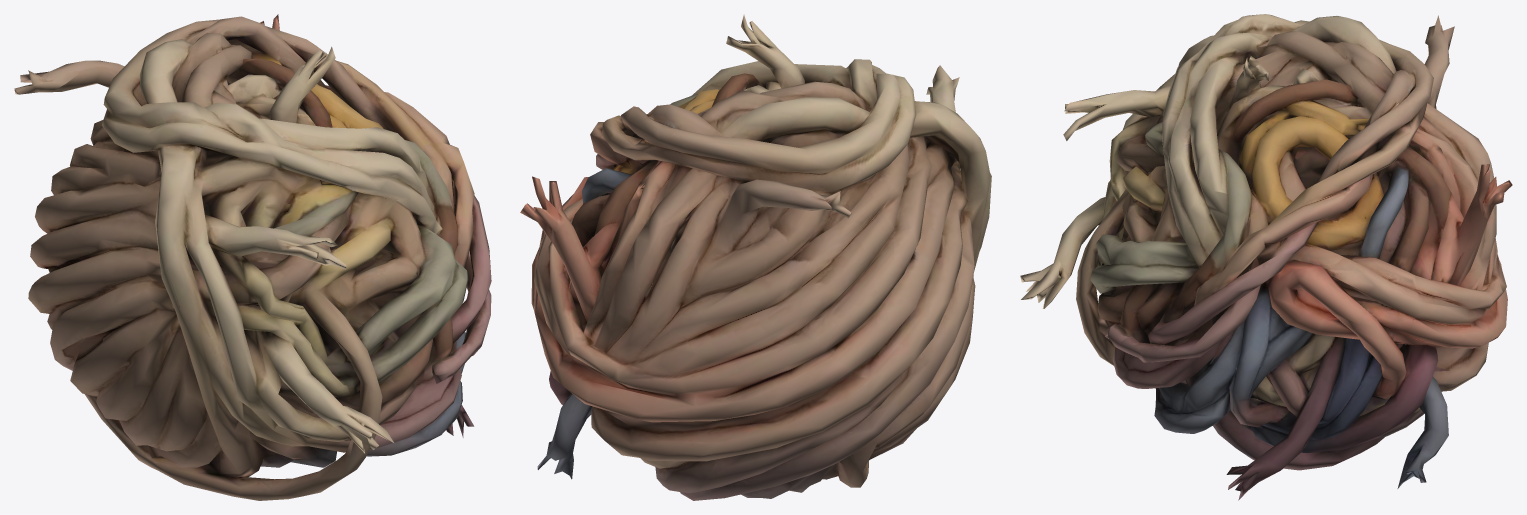
File: cable-ball.glb
3 views of the same model, side by side, from view 1: azimuth 30°, elevation 25°; view 2: azimuth 150°, elevation 25°; view 3: azimuth 270°, elevation 25° (orthographic). The views are drawn at different scales.
Visible parts, largest first — view 1: tripo_node_01a308a8-fe2e-421f-9cad-6132b33cbd5f; view 2: tripo_node_01a308a8-fe2e-421f-9cad-6132b33cbd5f; view 3: tripo_node_01a308a8-fe2e-421f-9cad-6132b33cbd5f.
Part boxes in pixels (x1,y1,x2,y2): tripo_node_01a308a8-fe2e-421f-9cad-6132b33cbd5f: (14, 14, 491, 500); tripo_node_01a308a8-fe2e-421f-9cad-6132b33cbd5f: (520, 14, 991, 500); tripo_node_01a308a8-fe2e-421f-9cad-6132b33cbd5f: (1020, 14, 1512, 500).
Size of the model in its own units: 0.8176 by 0.8995 by 1.
Materials: 1 (1 with a texture image).
